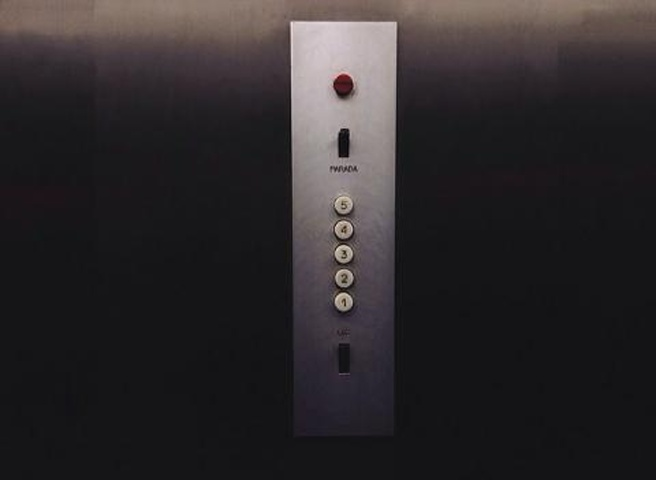1: (333, 291, 355, 313)
2: (334, 268, 355, 289)
3: (334, 243, 354, 265)
4: (333, 219, 354, 240)
5: (334, 196, 354, 215)
text_blur: (332, 72, 355, 97)
